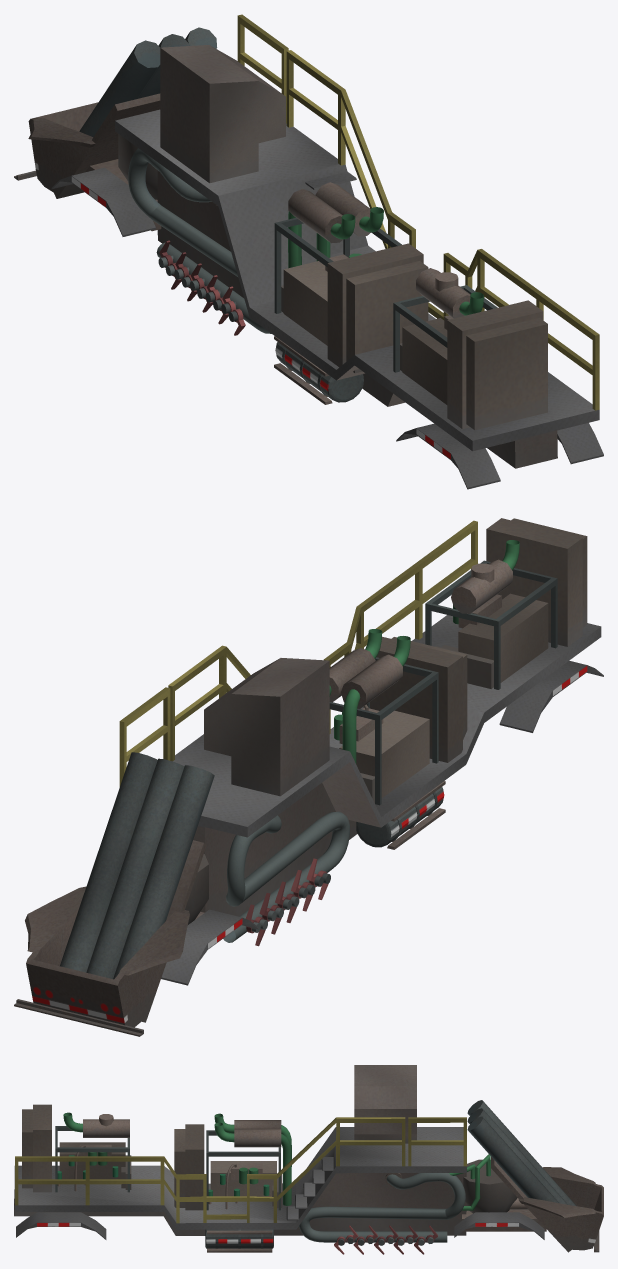
Rendered from BlendingTruck.FBX.
3 renders of one model, top to bottom at view 1: azimuth 30°, elevation 25°; view 2: azimuth 150°, elevation 25°; view 3: azimuth 270°, elevation 25°, orthographic. The views are drawn at different scales.
Visible parts, largest first — view 1: Box006, Box023, Box010, Box007, Box011, Line016, Box009, Box012, Box018, Box015, Box034, Cylinder053 (+10 smaller); view 2: Box006, Box023, Box007, Box009, Cylinder052, Cylinder007, Cylinder053, Line016, Box012, Box015, Box018, Box013 (+12 smaller); view 3: Box006, Box007, Box023, Line004, Cylinder007, Cylinder010, Group_135, Box009, Box012, Box018, Box015, Box036 (+14 smaller).
Part boxes in pixels (x1,y1,x2,y2): Box006: (115,14,599,468); Box023: (160,45,285,183); Box010: (466,318,547,430); Box007: (28,93,160,198); Box011: (346,261,428,373); Line016: (128,148,271,333); Box009: (447,300,543,428); Box012: (327,243,423,367); Box018: (283,261,327,345); Box015: (402,318,447,404); Box034: (51,167,155,236); Cylinder053: (79,40,160,137); Box006: (119,520,601,916); Box023: (204,658,329,796); Box007: (25,840,206,1027); Box009: (486,518,582,646); Cylinder052: (86,758,184,978); Cylinder007: (60,752,157,972); Cylinder053: (113,765,214,979); Line016: (223,811,349,942); Box012: (370,636,462,762); Box015: (458,593,548,682); Box018: (339,710,429,797); Box013: (425,560,557,689); Box006: (14,1117,466,1235); Box007: (491,1157,603,1252); Box023: (354,1065,416,1143); Line004: (299,1173,465,1242); Cylinder007: (467,1116,558,1202); Cylinder010: (463,1159,517,1213); Group_135: (205,1229,273,1252); Box009: (33,1104,51,1192); Box012: (185,1124,204,1210); Box018: (210,1161,276,1196); Box015: (59,1142,125,1179); Box036: (16,1212,106,1239).
Bounding box in the file's own units: 184 × 283 × 952.
2 materials, 2 textured.
